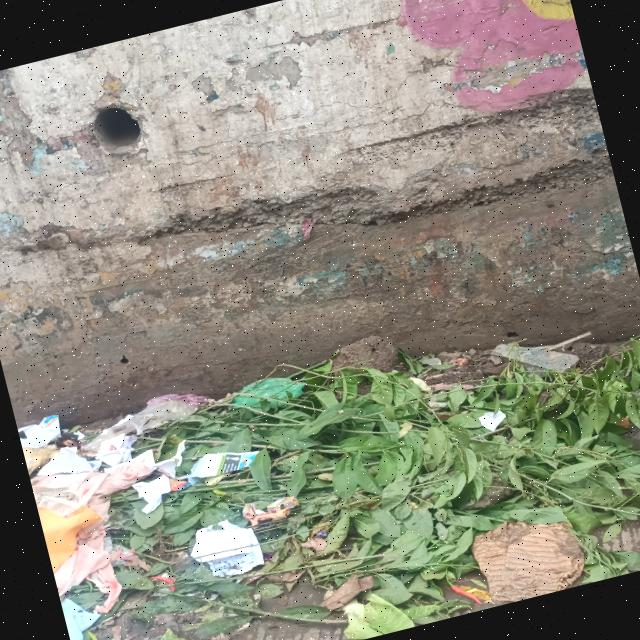garbage: (15, 269, 640, 640)
